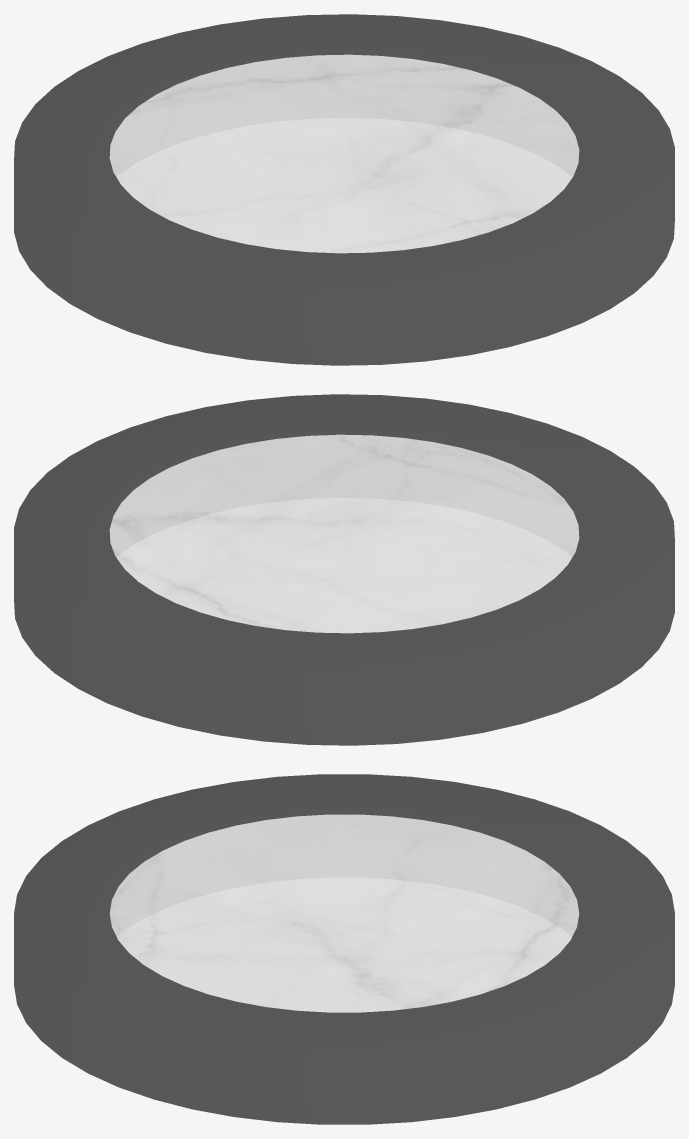
Rendered from tower.glb.
The picture shows the model from 3 angles, top to bottom: view 1: azimuth 30°, elevation 25°; view 2: azimuth 150°, elevation 25°; view 3: azimuth 270°, elevation 25°; orthographic projection.
Parts seen in each view (by area): view 1: Cylinder#col; view 2: Cylinder#col; view 3: Cylinder#col.
Part boxes in pixels (x1,y1,x2,y2): Cylinder#col: [14, 14, 674, 365]; Cylinder#col: [14, 394, 674, 745]; Cylinder#col: [14, 774, 674, 1124].
Size of the model in its own units: 9.78 by 1.18 by 9.8.
2 materials, 1 textured.
